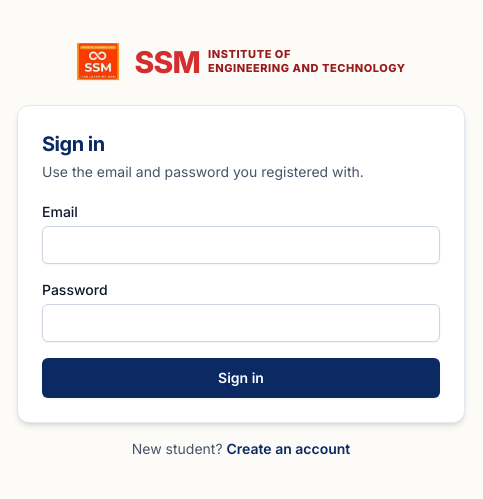
form validation › shows the server error when login fails
In the field labelled "Email": (241, 245) [42, 226, 440, 264], type "a@example.com"
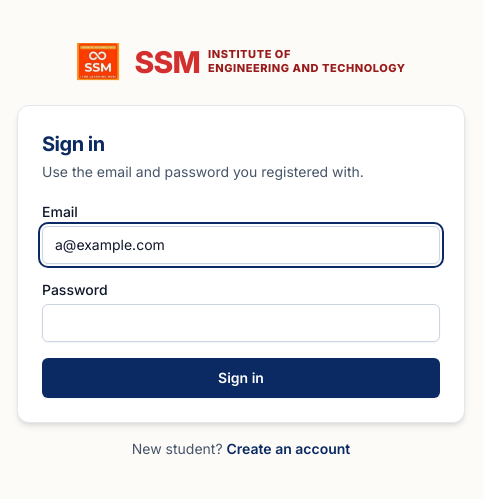
In the password field labelled "Password": (241, 323) [42, 304, 440, 342], type "wrong"
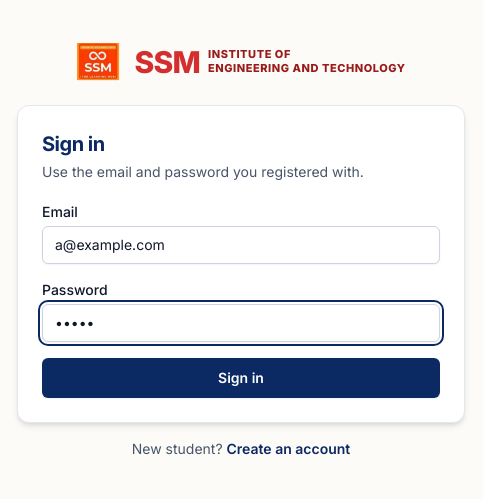
Click the button "Sign in": (241, 378) [42, 358, 440, 398]
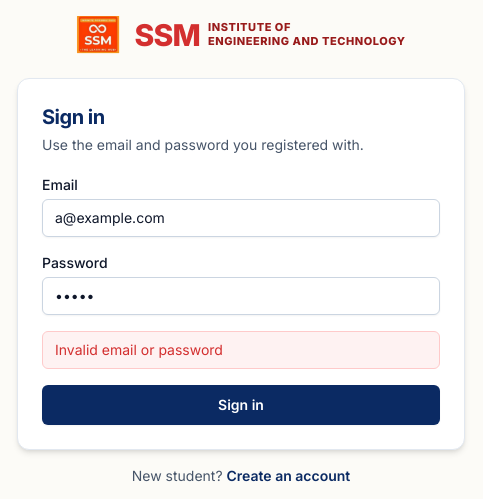
Result: the message reads "Invalid email or password" at [55, 341, 223, 358]
